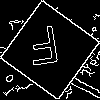F: (25, 25, 63, 76)
